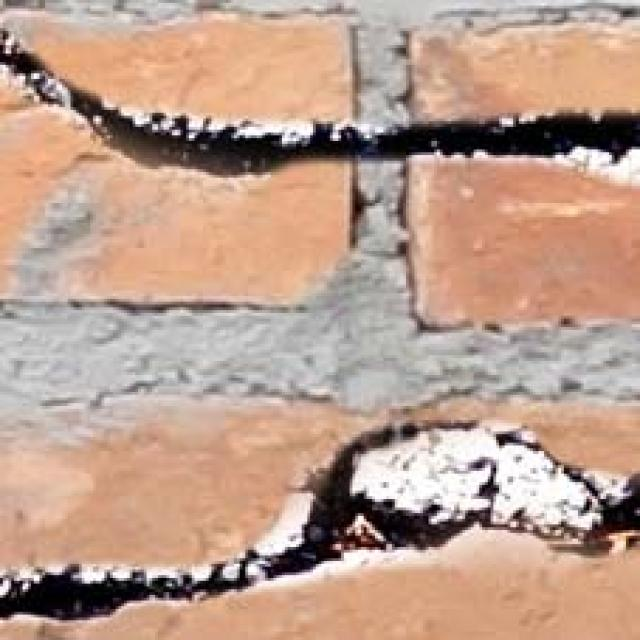Crack: (0, 375, 640, 640), (0, 0, 640, 256)
